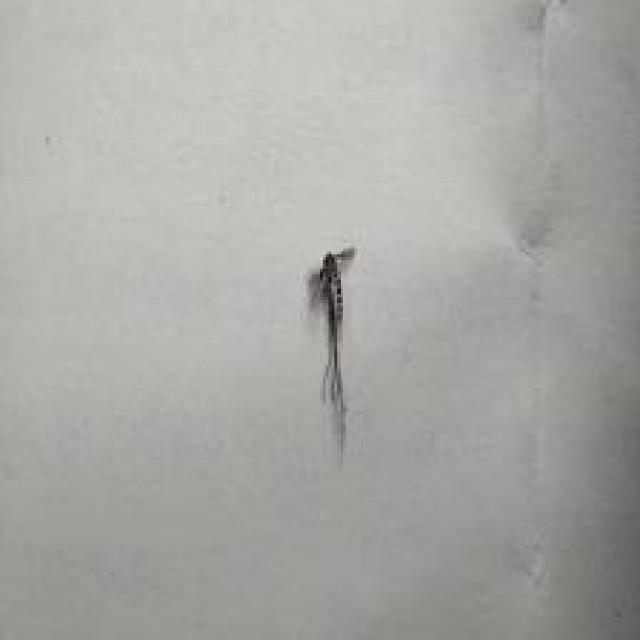Aedes albopictus: (306, 244, 357, 459)
